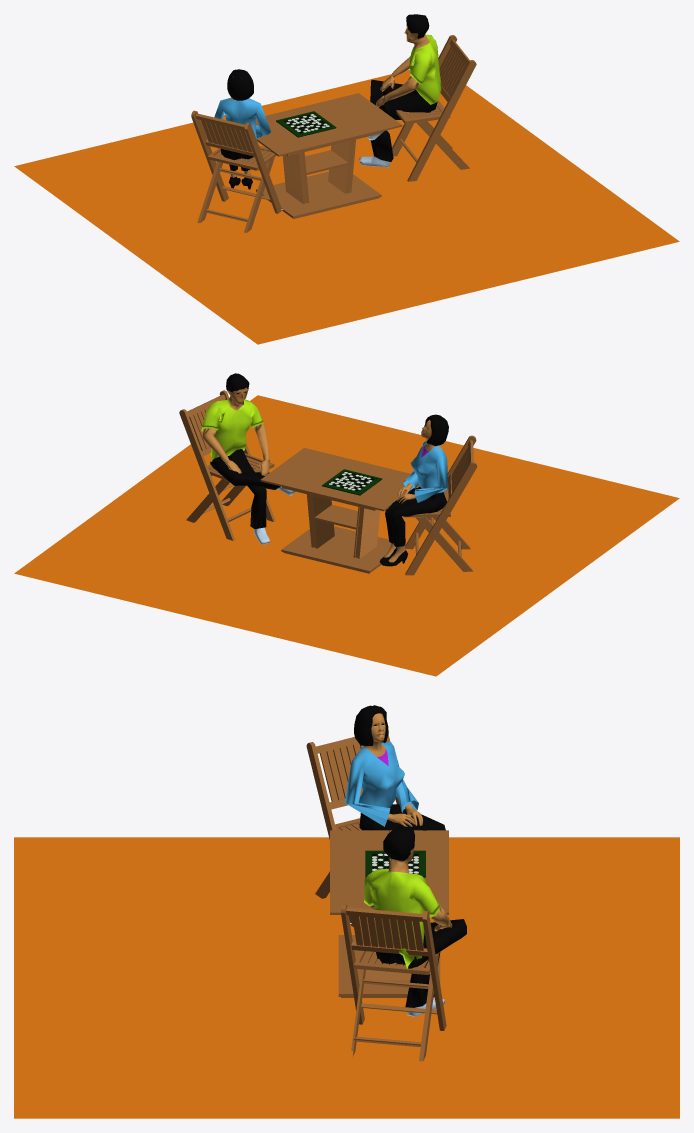
Rendered from boardgame.glb.
The picture shows the model from 3 angles, top to bottom: view 1: azimuth 30°, elevation 25°; view 2: azimuth 150°, elevation 25°; view 3: azimuth 270°, elevation 25°; orthographic projection. The views are drawn at different scales.
Parts seen in each view (by area): view 1: Plane, Cube; view 2: Plane, Cube; view 3: Plane, Cube.
Boxes of the visible parts, x1,y1,x2,y2 form: Plane: (14,70,679,344); Cube: (191,14,476,232); Plane: (14,395,679,676); Cube: (179,373,477,575); Plane: (14,837,679,1118); Cube: (306,705,466,1061).
Size of the model in its own units: 154 by 53.3 by 154.
